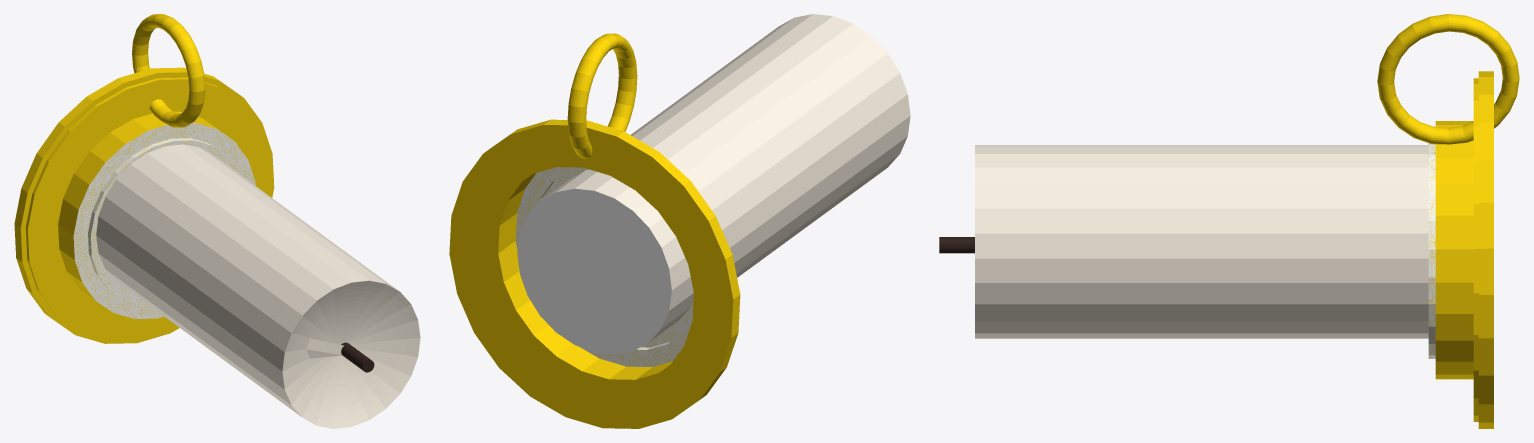
3 renders of one model, left to right at view 1: azimuth 30°, elevation 25°; view 2: azimuth 150°, elevation 25°; view 3: azimuth 270°, elevation 25°, orthographic. The views are drawn at different scales.
Visible parts, largest first — view 1: candle; view 2: candle; view 3: candle.
Part boxes in pixels (bbox=[...]): candle: bbox=[14, 14, 420, 428]; candle: bbox=[449, 14, 910, 428]; candle: bbox=[939, 14, 1519, 428].
Size of the model in its own units: 21.81 by 27.11 by 35.49.
